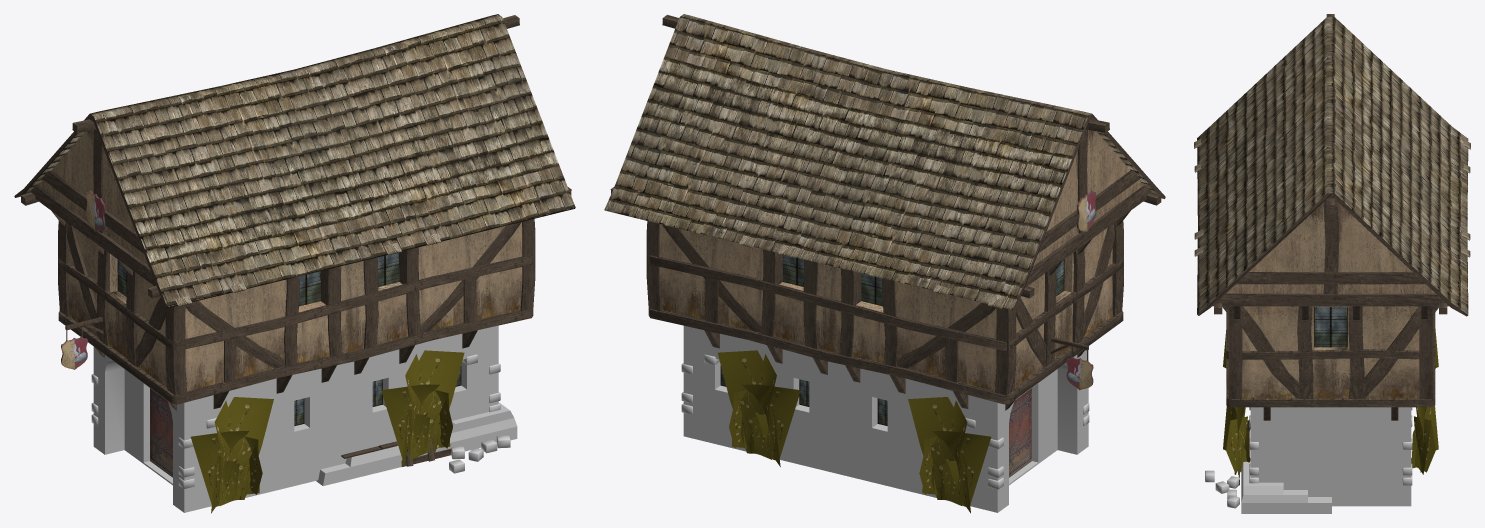
File: f1_house01.fbx
3 views of the same model, side by side, from view 1: azimuth 30°, elevation 25°; view 2: azimuth 150°, elevation 25°; view 3: azimuth 270°, elevation 25° (orthographic). The views are drawn at different scales.
Visible parts, largest first — view 1: Mesh Object; view 2: Mesh Object; view 3: Mesh Object.
Boxes of the visible parts, bbox=[...] form: Mesh Object: bbox=[14, 14, 575, 513]; Mesh Object: bbox=[604, 14, 1165, 513]; Mesh Object: bbox=[1194, 14, 1470, 513].
Bounding box in the file's own units: 11.27 × 9.2 × 6.89.
